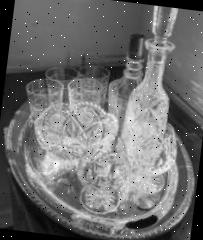glass: (9, 0, 197, 226)
